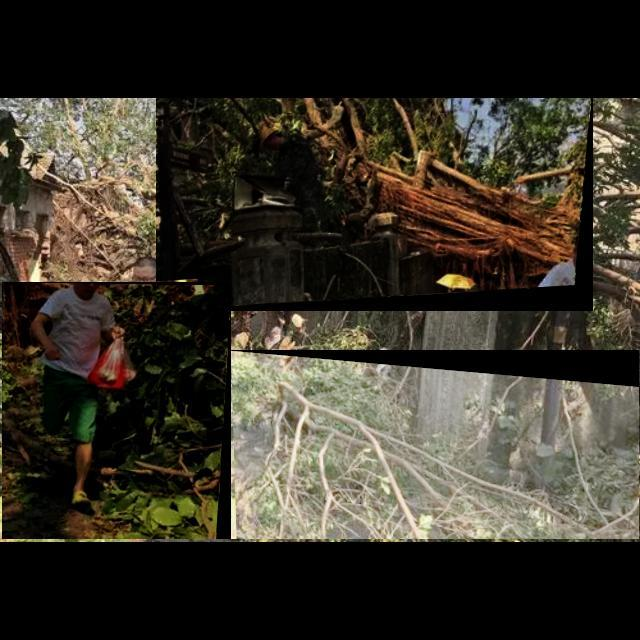fallen_tree: (156, 98, 594, 312), (220, 350, 640, 540), (2, 282, 232, 540)
